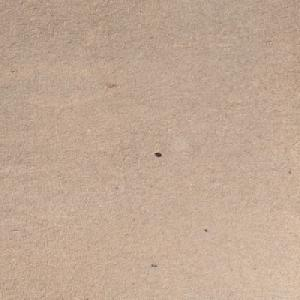Nut: (153, 151, 160, 155)
